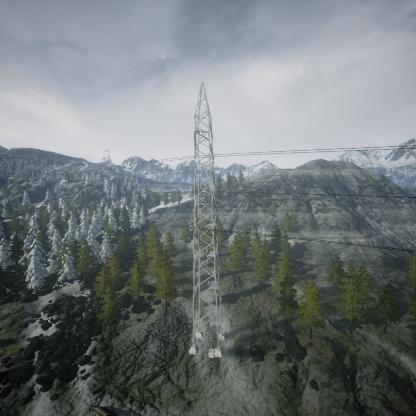tower: (189, 82, 225, 358)
